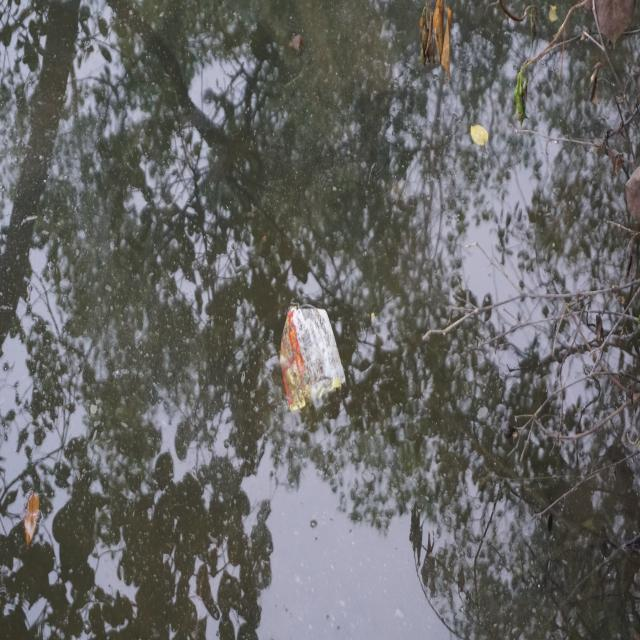Bungkus Makanan: (277, 295, 349, 419)
